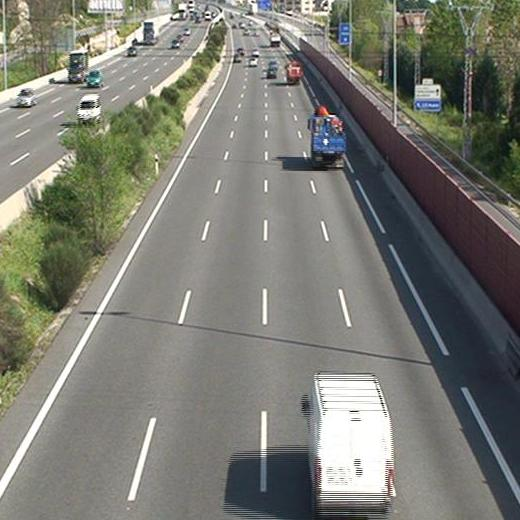car: (266, 68, 277, 77), (247, 58, 256, 66), (232, 55, 241, 63)
small-truck: (310, 114, 344, 167), (286, 61, 302, 84)
van: (305, 375, 394, 515)
